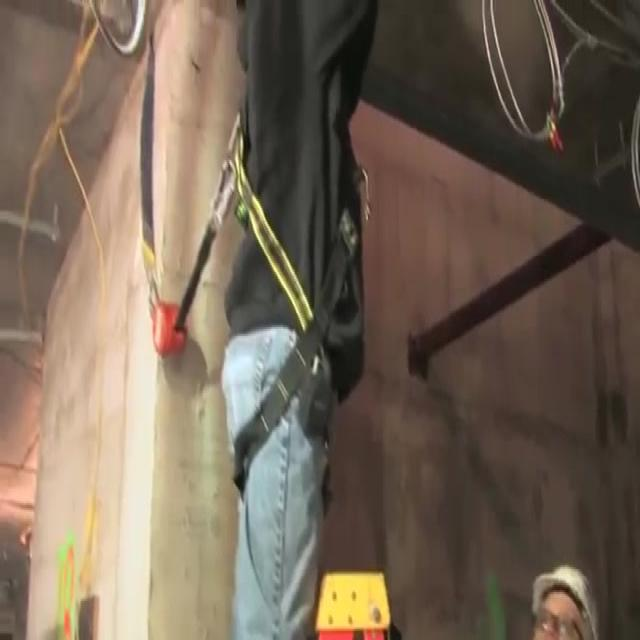Safety-Helmet: (520, 544, 611, 638)
